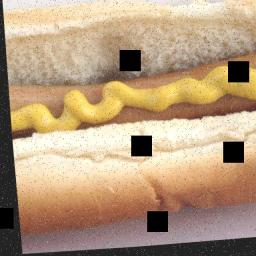hotdog: (1, 0, 256, 238)
